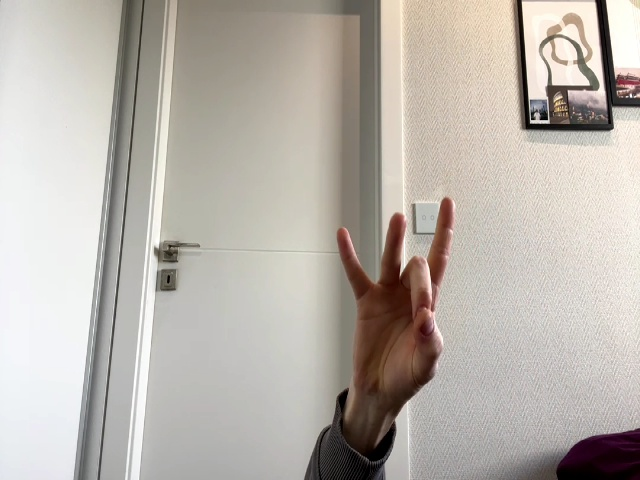G: (337, 198, 457, 390)
